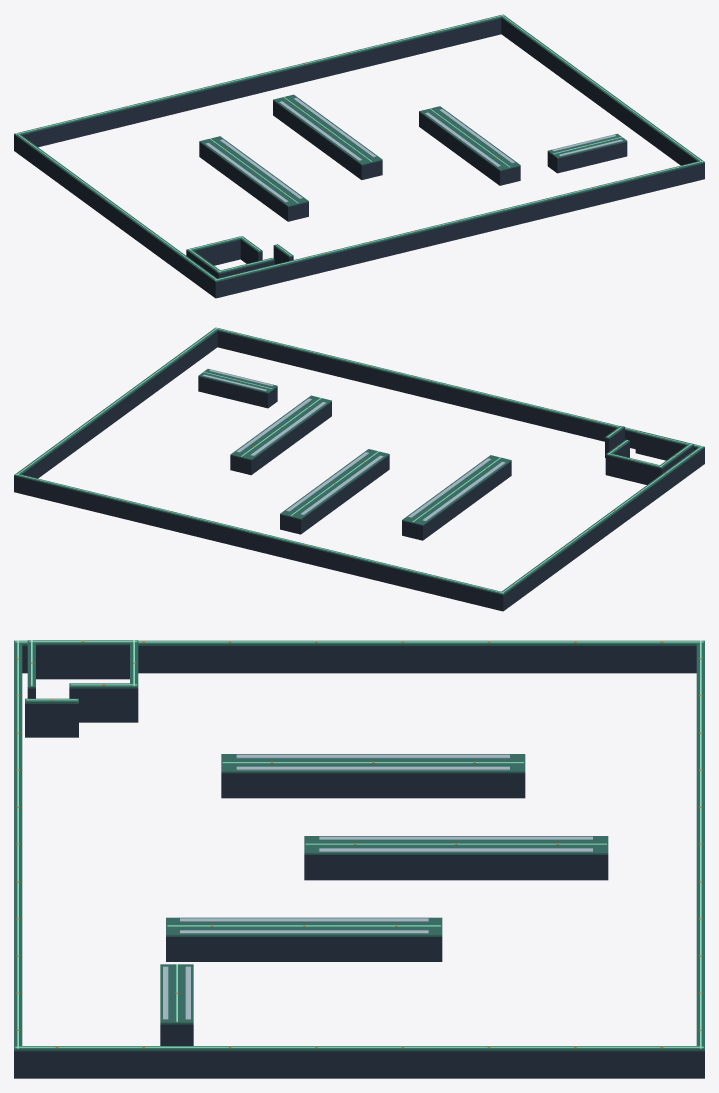
The model's file is campaign_drone_corridor.runtime.gltf.
3 renders of one model, top to bottom at view 1: azimuth 30°, elevation 25°; view 2: azimuth 150°, elevation 25°; view 3: azimuth 270°, elevation 25°, orthographic. The views are drawn at different scales.
Parts seen in each view (by area): view 1: BATCH material 0, BATCH material 1, BATCH material 3, BATCH material 2; view 2: BATCH material 0, BATCH material 1, BATCH material 3, BATCH material 2; view 3: BATCH material 0, BATCH material 1, BATCH material 2, BATCH material 3.
Boxes of the visible parts, x1=… form: BATCH material 0: x1=14, y1=18, x2=704, y2=298; BATCH material 1: x1=14, y1=14, x2=704, y2=282; BATCH material 3: x1=16, y1=15, x2=703, y2=280; BATCH material 2: x1=205, y1=98, x2=622, y2=202; BATCH material 0: x1=14, y1=331, x2=704, y2=611; BATCH material 1: x1=14, y1=327, x2=704, y2=595; BATCH material 3: x1=15, y1=328, x2=702, y2=593; BATCH material 2: x1=202, y1=369, x2=505, y2=521; BATCH material 0: x1=14, y1=645, x2=704, y2=1078; BATCH material 1: x1=14, y1=640, x2=704, y2=1051; BATCH material 2: x1=163, y1=754, x2=592, y2=1019; BATCH material 3: x1=15, y1=640, x2=703, y2=1048.
Size of the model in its own units: 35 by 1.45 by 25.
